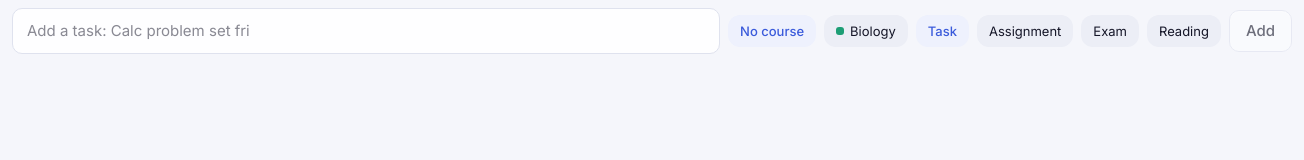
Test: QuickAdd › shows the full parsed date so the user can tell which day
In the field labelled "Add a task": (366, 31) [12,8,720,54], type "Essay next fri"
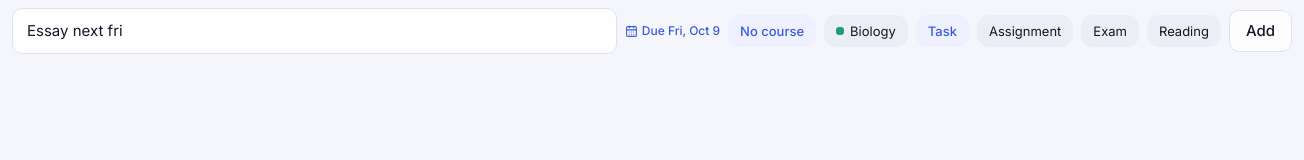
Check: the text "Due Fri, Oct 9" is shown, box [625,23,720,39]
